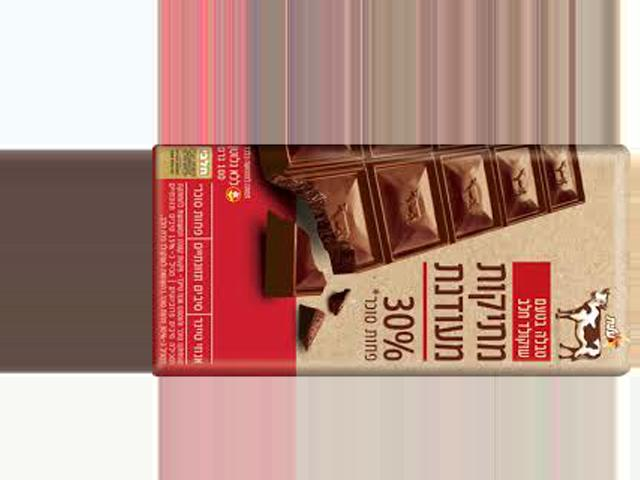chocolate: (154, 144, 629, 378)
